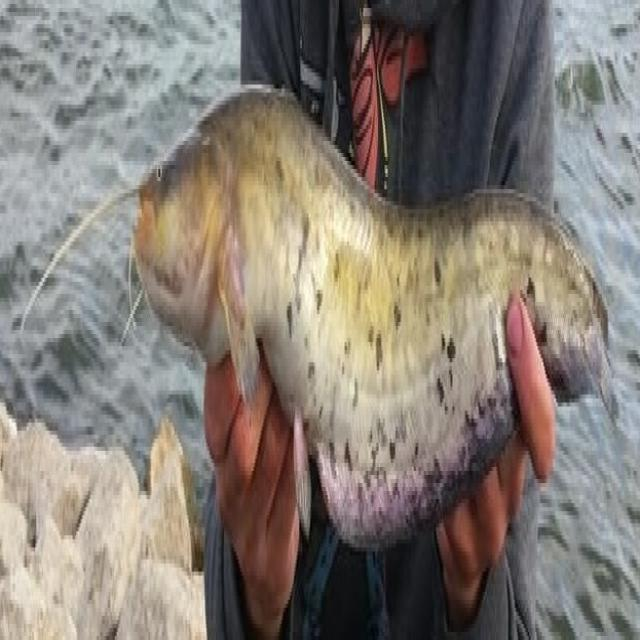Catfish: (122, 84, 629, 584)
